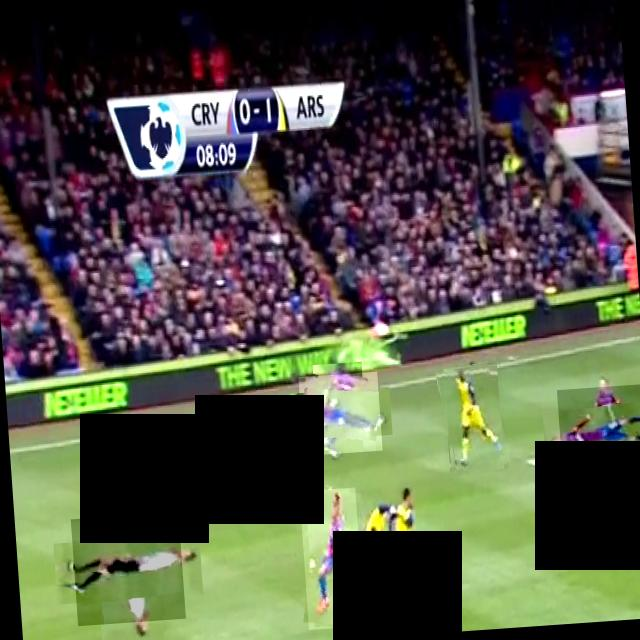ball: (339, 550, 369, 580)
referee: (70, 510, 184, 624)
soccer-player: (297, 486, 363, 629), (555, 382, 640, 486), (437, 360, 507, 474), (297, 370, 381, 454)
